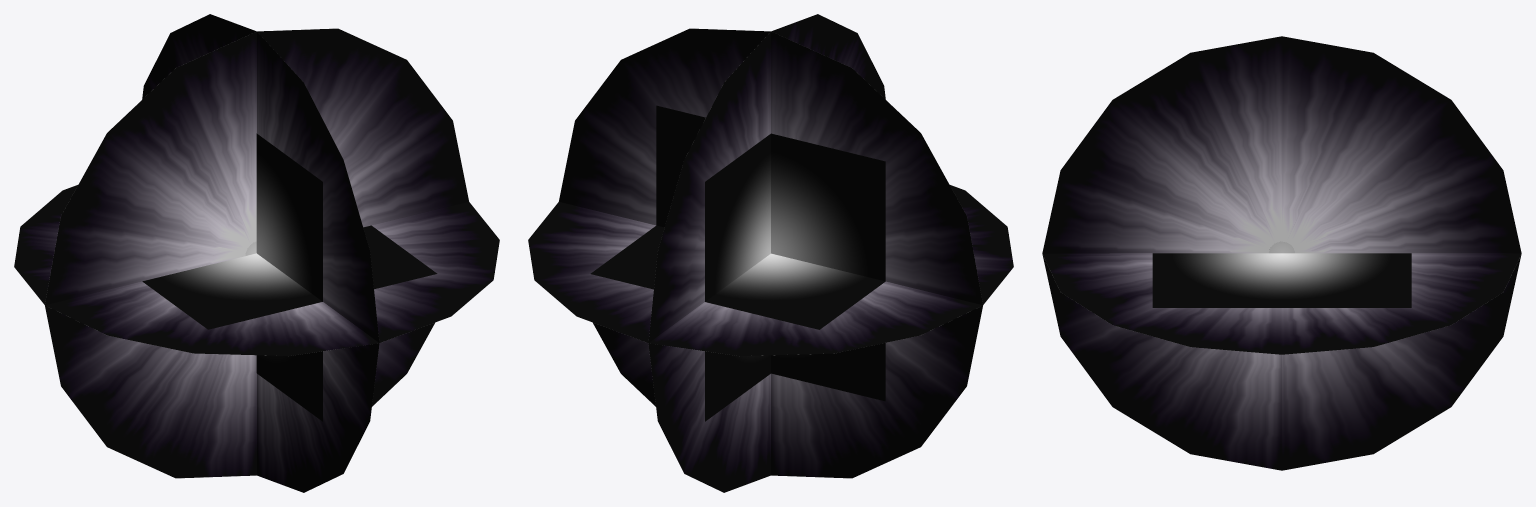
Rendered from chara2_sp_efe.FBX.
3 views of the same model, side by side, from view 1: azimuth 30°, elevation 25°; view 2: azimuth 150°, elevation 25°; view 3: azimuth 270°, elevation 25° (orthographic). The views are drawn at different scales.
Visible parts, largest first — view 1: Cylinder002, Cylinder003, Cylinder001, Plane003, Plane001; view 2: Cylinder002, Cylinder003, Cylinder001, Plane002, Plane003, Plane001; view 3: Cylinder003, Cylinder001, Plane001.
Part boxes in pixels (bbox=[...]): Cylinder002: bbox=[44, 28, 468, 478]; Cylinder003: bbox=[142, 14, 379, 492]; Cylinder001: bbox=[14, 185, 499, 355]; Plane003: bbox=[256, 133, 322, 421]; Plane001: bbox=[142, 225, 437, 329]; Cylinder002: bbox=[559, 28, 983, 478]; Cylinder003: bbox=[648, 14, 885, 492]; Cylinder001: bbox=[528, 185, 1013, 355]; Plane002: bbox=[656, 105, 885, 401]; Plane003: bbox=[705, 134, 770, 421]; Plane001: bbox=[590, 225, 885, 329]; Cylinder003: bbox=[1042, 36, 1521, 470]; Cylinder001: bbox=[1042, 253, 1521, 354]; Plane001: bbox=[1152, 253, 1411, 307].
Bounding box in the file's own units: 2.29 × 2.29 × 2.29.
